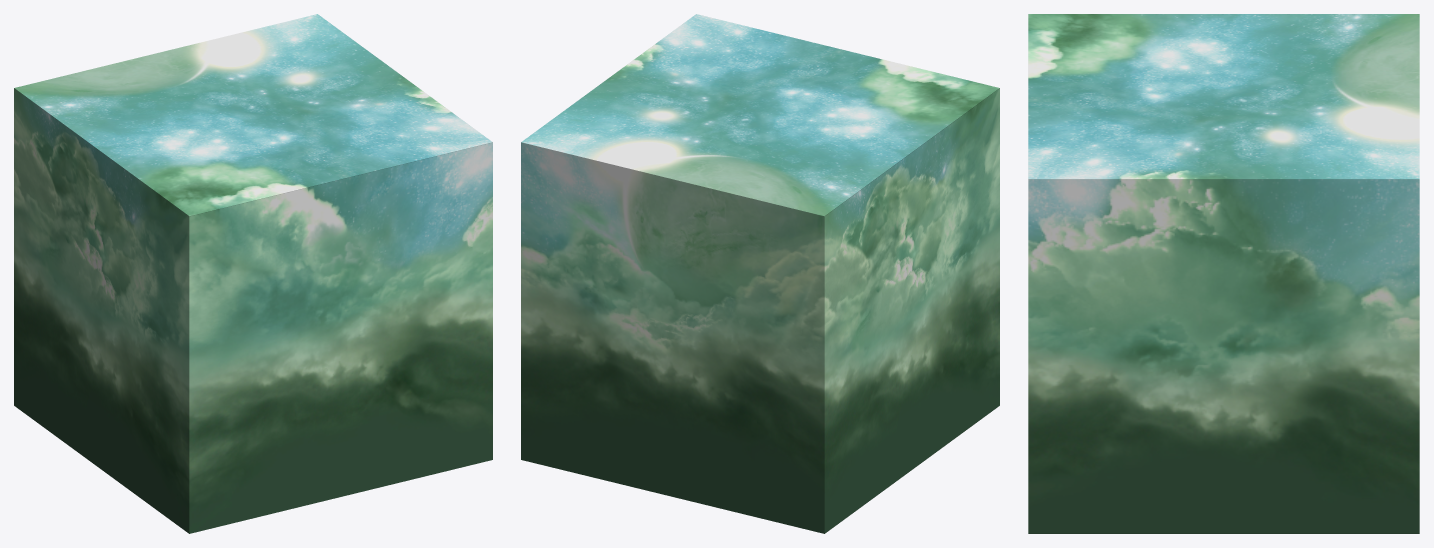
File: skybox.fbx
The picture shows the model from 3 angles, left to right: view 1: azimuth 30°, elevation 25°; view 2: azimuth 150°, elevation 25°; view 3: azimuth 270°, elevation 25°; orthographic projection. The views are drawn at different scales.
Visible parts, largest first — view 1: Cube; view 2: Cube; view 3: Cube.
Boxes of the visible parts, x1,y1,x2,y2 form: Cube: (14,14,492,533); Cube: (521,14,999,533); Cube: (1028,14,1419,533).
Bounding box in the file's own units: 1 × 1 × 1.
Materials: 1 (1 with a texture image).
